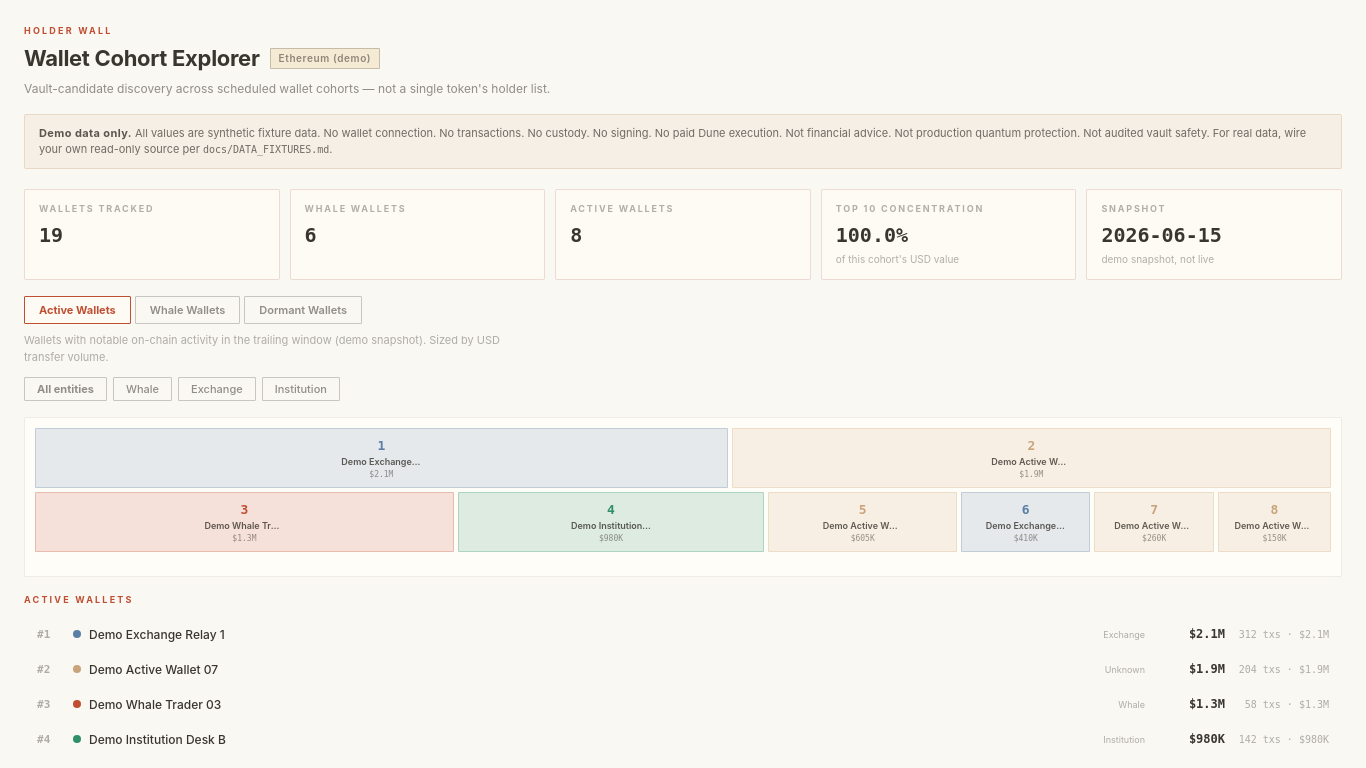
Holder Wall › shows the estimated-balance banner only for the Dormant Wallets cohort
Click the tab "Dormant Wallets" at (303, 310), box [244,296,362,324]
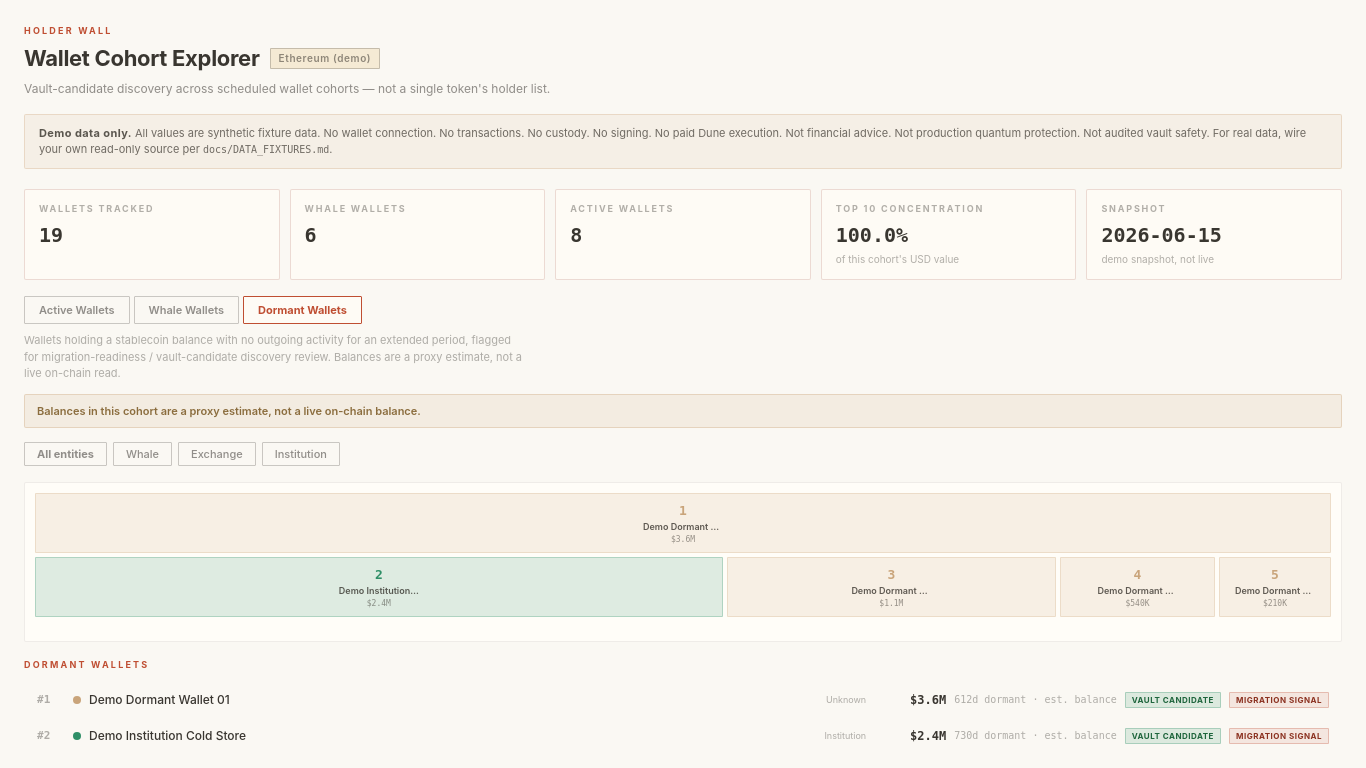
Expected: the text "proxy estimate" is shown, [37,404,421,418]
